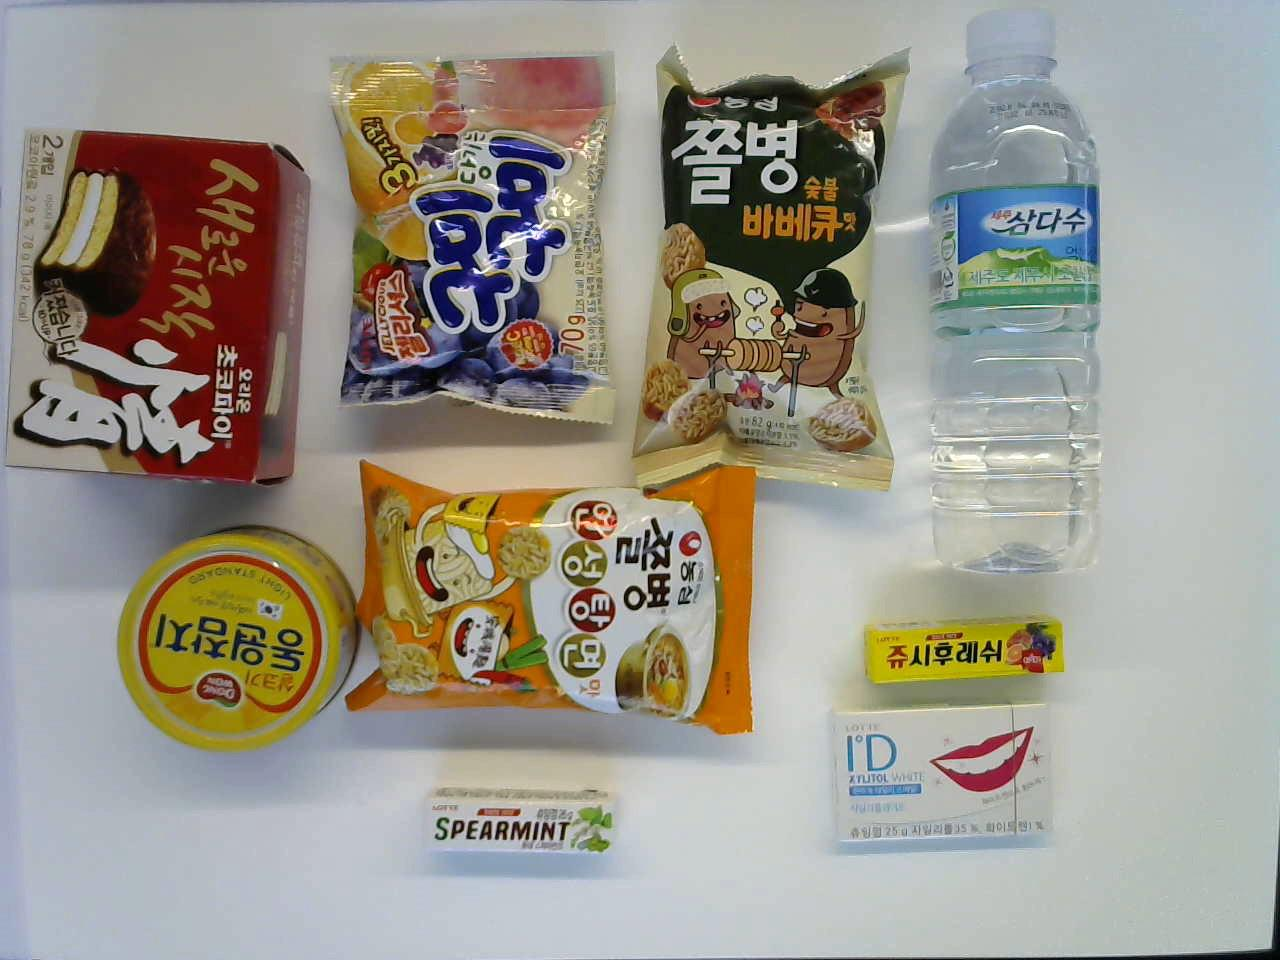ID_gum: (827, 699, 1063, 854)
chocopie: (5, 124, 298, 498)
gumi_gumi: (324, 47, 627, 432)
jjolbyung_noodle: (357, 448, 764, 747)
jjolbyung_ori: (644, 42, 910, 482)
juicyfresh: (856, 605, 1086, 682)
samdasu: (905, 8, 1104, 600)
spearmint: (417, 783, 627, 867)
tuna: (103, 521, 354, 761)
